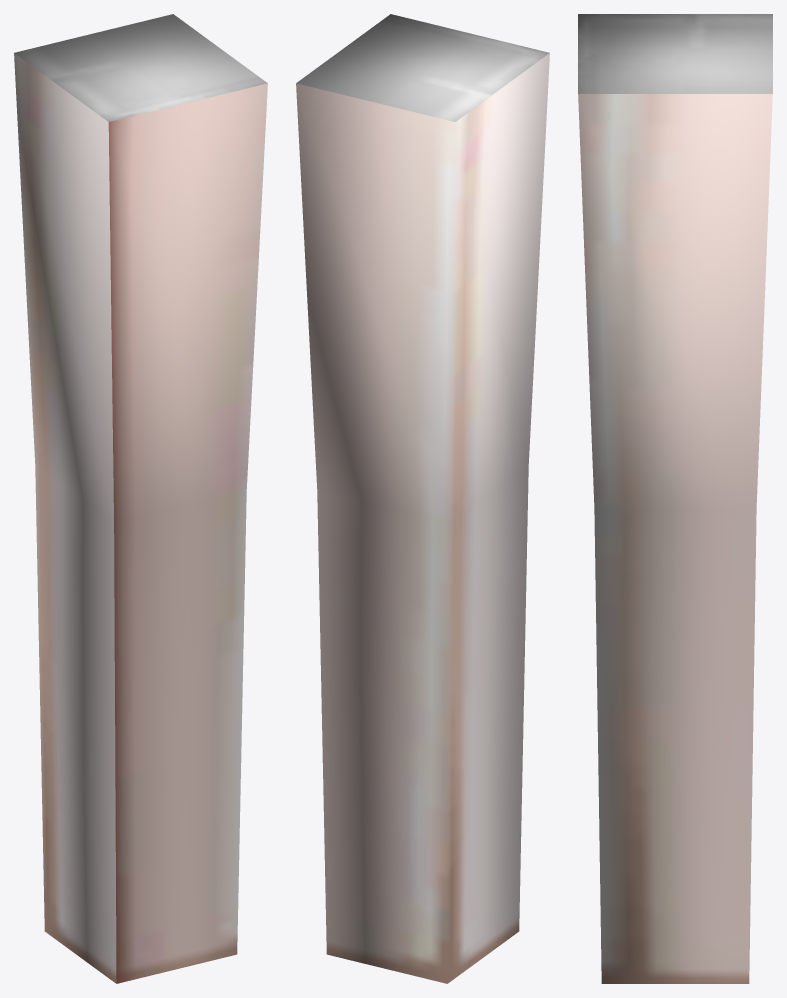
Rendered from FarmFencePole.fbx.
3 views of the same model, side by side, from view 1: azimuth 30°, elevation 25°; view 2: azimuth 150°, elevation 25°; view 3: azimuth 270°, elevation 25° (orthographic). The views are drawn at different scales.
Parts seen in each view (by area): view 1: FarmFencePole; view 2: FarmFencePole; view 3: FarmFencePole.
Boxes of the visible parts, bbox=[...] form: FarmFencePole: bbox=[14, 14, 267, 983]; FarmFencePole: bbox=[296, 14, 549, 983]; FarmFencePole: bbox=[578, 14, 772, 983].
Size of the model in its own units: 0.2263 by 1.19 by 0.2331.
